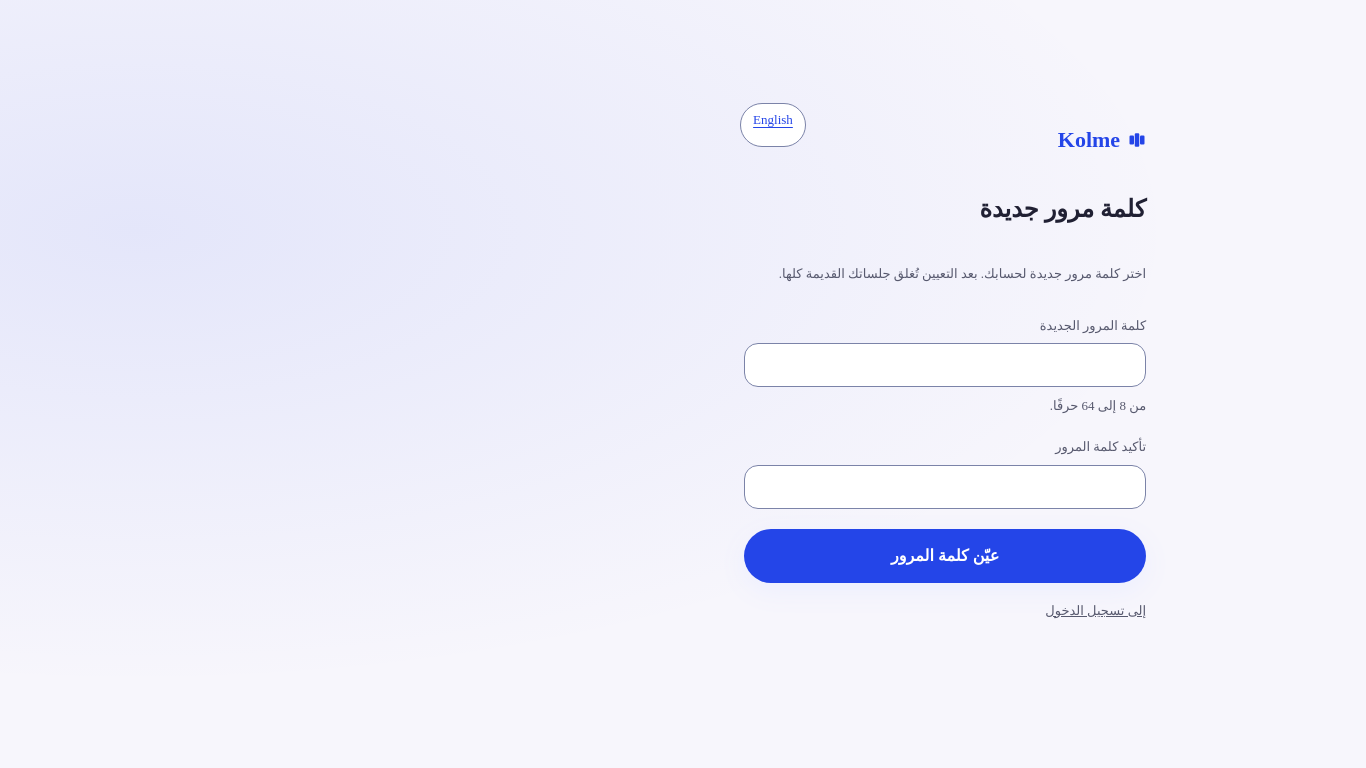
Test case: ResetPasswordScreen › never sends mismatched passwords
In the password field labelled "كلمة المرور الجديدة": (945, 365) x1=744 y1=343 x2=1146 y2=387, type "longpassword1"
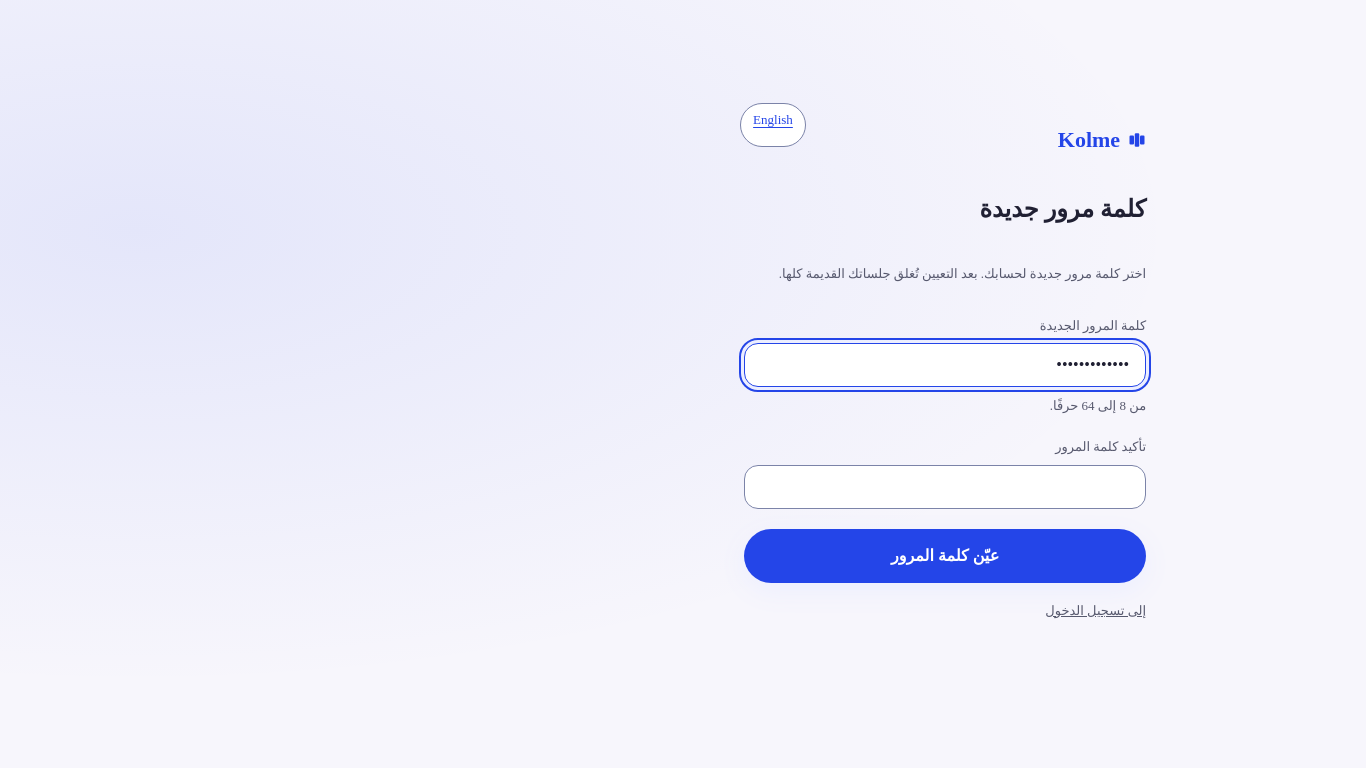
In the password field labelled "تأكيد كلمة المرور": (945, 487) x1=744 y1=465 x2=1146 y2=509, type "longpassword2"
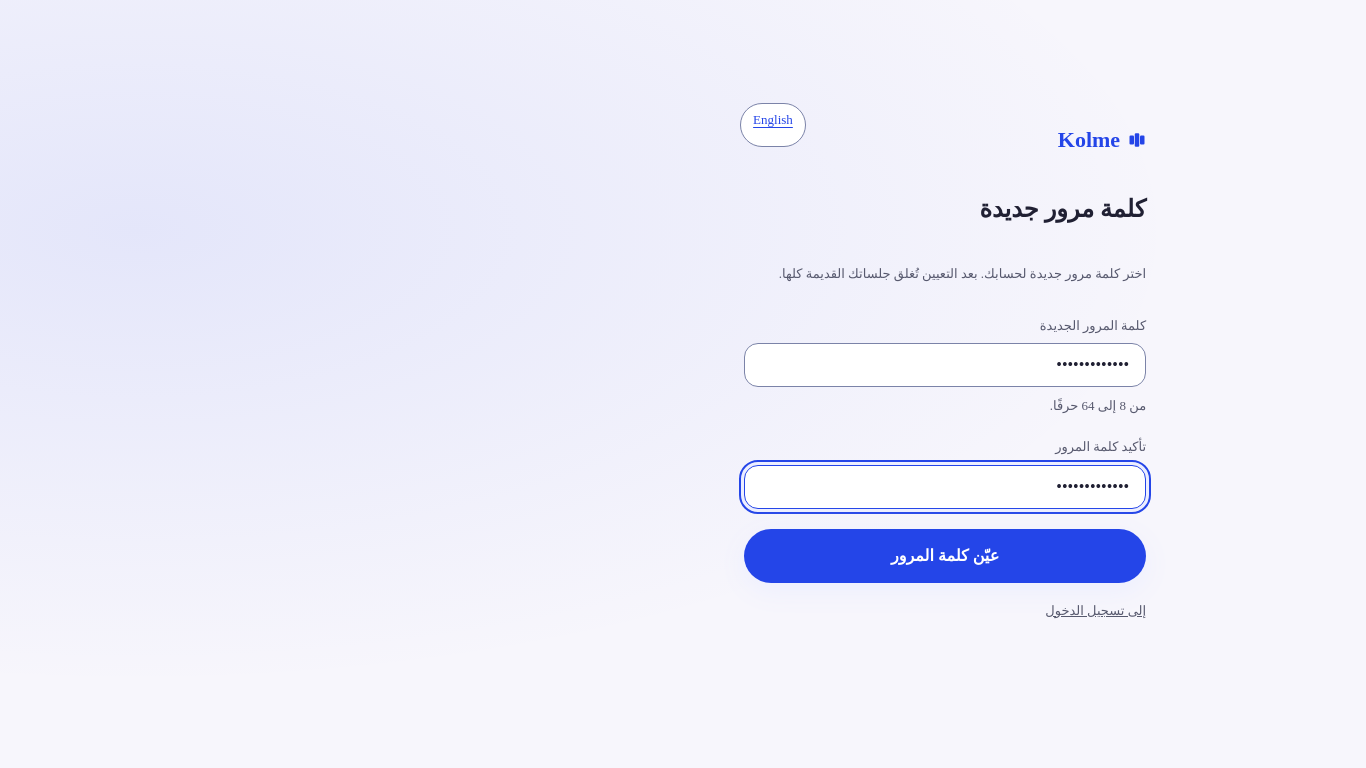
Click the button "عيّن كلمة المرور": (945, 556) x1=744 y1=529 x2=1146 y2=583
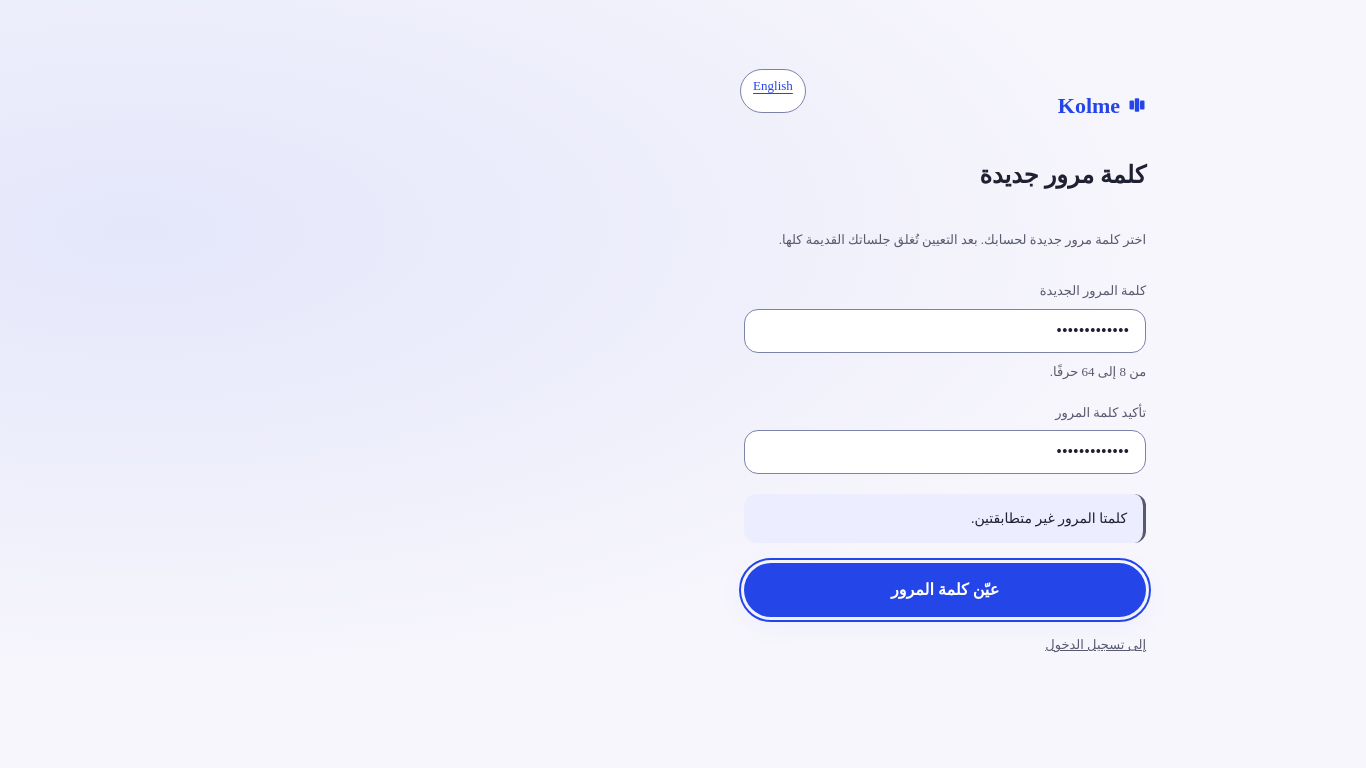
Check: the message shows "غير متطابقتين", box x1=971 y1=511 x2=1127 y2=526
